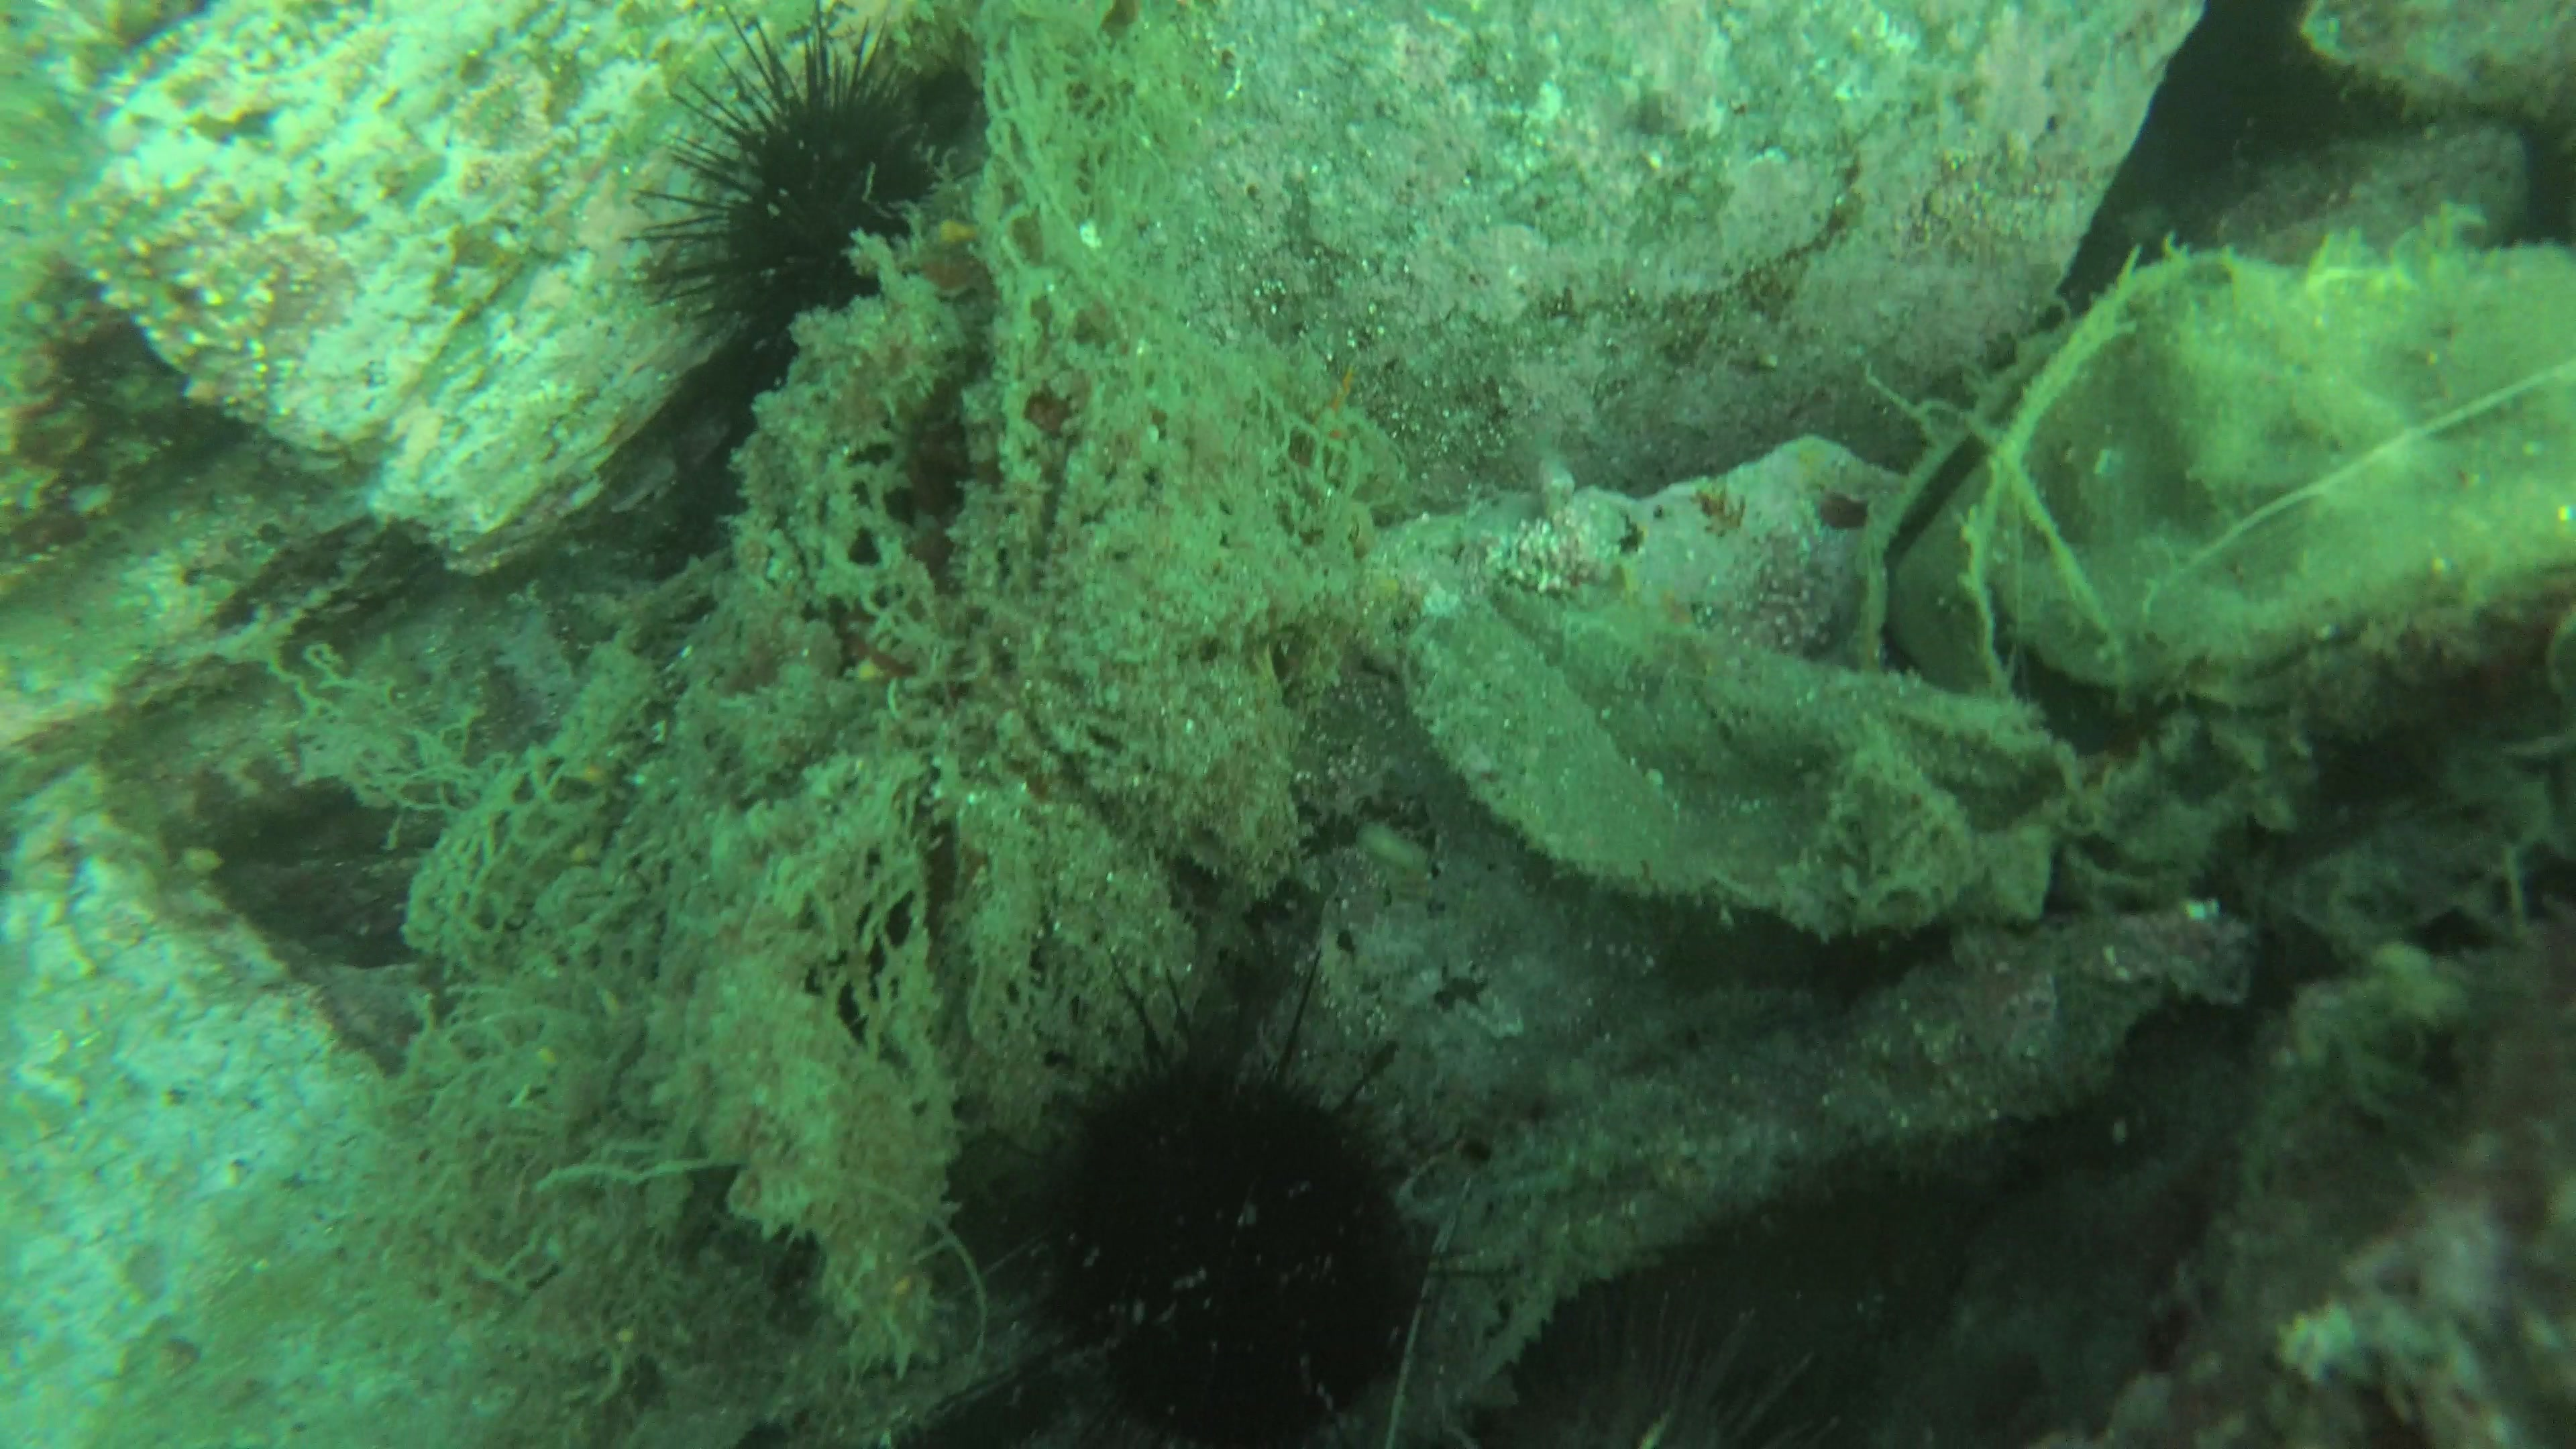echinus: (1014, 993, 1428, 1375), (667, 44, 985, 364)
